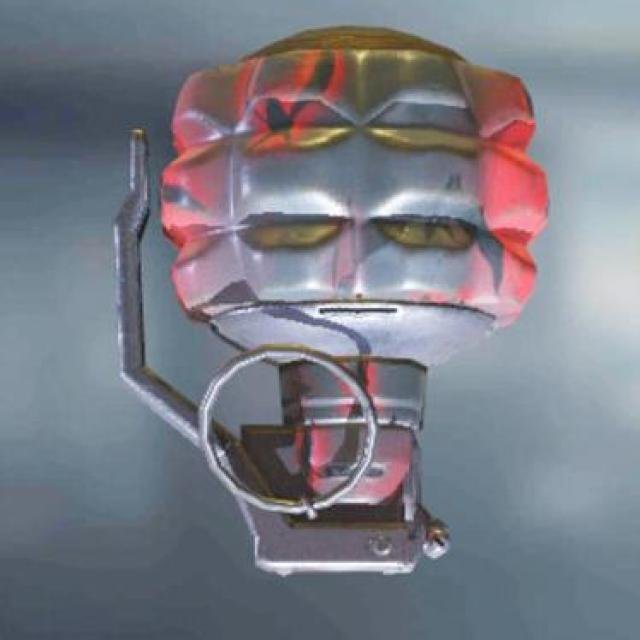grenade: (113, 29, 551, 578)
